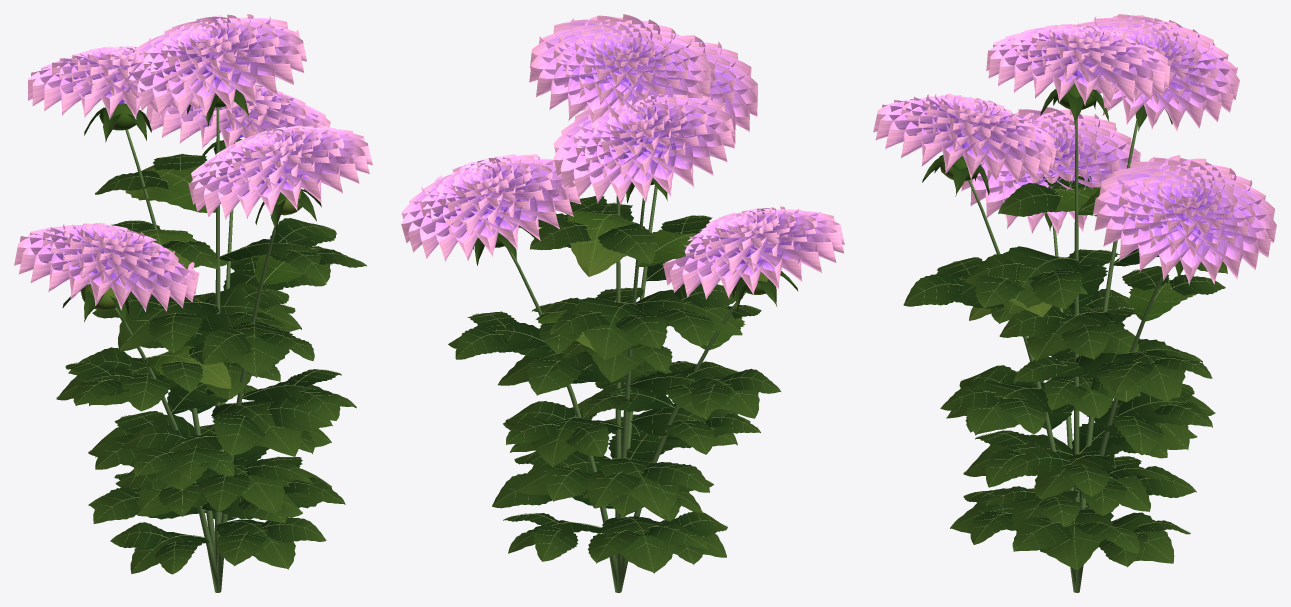
Rendered from dahlia-dream-10.glb.
The picture shows the model from 3 angles, left to right: view 1: azimuth 30°, elevation 25°; view 2: azimuth 150°, elevation 25°; view 3: azimuth 270°, elevation 25°; orthographic projection.
Parts seen in each view (by area): view 1: dahlia_dream_stage_10_leaf_veins.020, dahlia_dream_stage_10_dahlia_petal.020, dahlia_dream_stage_10_young_leaf.020, dahlia_dream_stage_10_raised_midveins.020, dahlia_dream_stage_10_stem_fibres.020; view 2: dahlia_dream_stage_10_leaf_veins.020, dahlia_dream_stage_10_dahlia_petal.020, dahlia_dream_stage_10_raised_midveins.020, dahlia_dream_stage_10_young_leaf.020, dahlia_dream_stage_10_stem_fibres.020; view 3: dahlia_dream_stage_10_leaf_veins.020, dahlia_dream_stage_10_dahlia_petal.020, dahlia_dream_stage_10_raised_midveins.020, dahlia_dream_stage_10_stem_fibres.020, dahlia_dream_stage_10_young_leaf.020.
Part boxes in pixels (left/top/right/bottom): dahlia_dream_stage_10_leaf_veins.020: left=56, top=89, right=366, bottom=574; dahlia_dream_stage_10_dahlia_petal.020: left=14, top=14, right=372, bottom=311; dahlia_dream_stage_10_young_leaf.020: left=81, top=93, right=334, bottom=388; dahlia_dream_stage_10_raised_midveins.020: left=57, top=153, right=364, bottom=571; dahlia_dream_stage_10_stem_fibres.020: left=114, top=107, right=278, bottom=592; dahlia_dream_stage_10_leaf_veins.020: left=448, top=178, right=798, bottom=573; dahlia_dream_stage_10_dahlia_petal.020: left=401, top=14, right=844, bottom=299; dahlia_dream_stage_10_raised_midveins.020: left=449, top=197, right=779, bottom=571; dahlia_dream_stage_10_young_leaf.020: left=495, top=181, right=768, bottom=351; dahlia_dream_stage_10_stem_fibres.020: left=507, top=185, right=745, bottom=592; dahlia_dream_stage_10_leaf_veins.020: left=903, top=89, right=1227, bottom=570; dahlia_dream_stage_10_dahlia_petal.020: left=873, top=14, right=1276, bottom=284; dahlia_dream_stage_10_raised_midveins.020: left=904, top=172, right=1226, bottom=569; dahlia_dream_stage_10_stem_fibres.020: left=968, top=117, right=1163, bottom=592; dahlia_dream_stage_10_young_leaf.020: left=940, top=83, right=1196, bottom=321.
Size of the model in its own units: 0.495 by 0.7441 by 0.4865.
5 materials, 3 textured.
